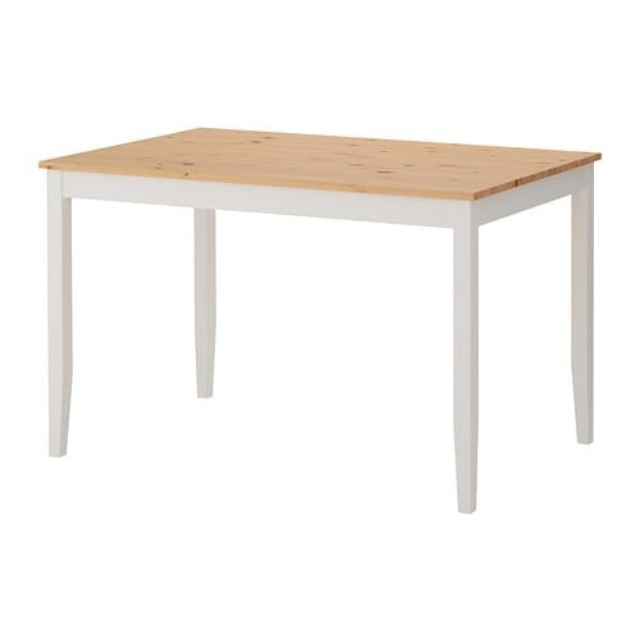obstacle: (40, 128, 599, 512)
